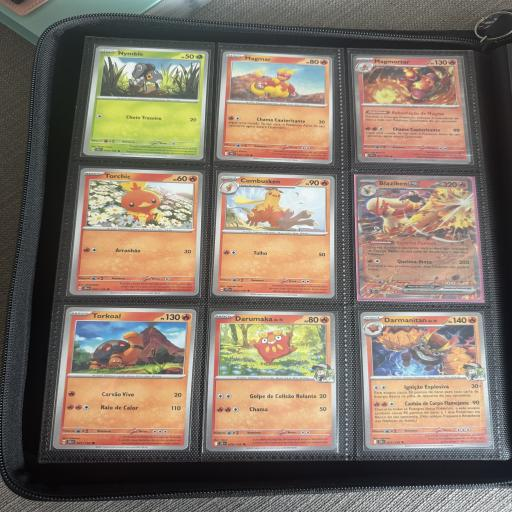card: (52, 306, 197, 450), (360, 307, 492, 451), (206, 310, 338, 452), (69, 167, 203, 296), (354, 175, 484, 299), (212, 172, 338, 298), (82, 45, 209, 160), (216, 51, 337, 164), (351, 55, 474, 164)
